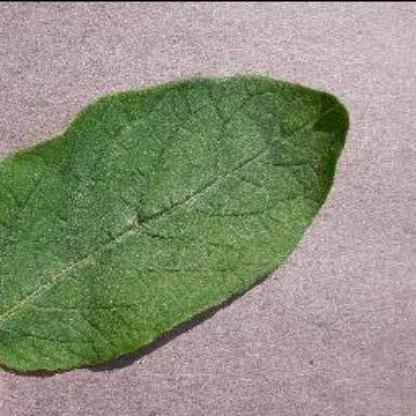Healthy-plant: (0, 50, 380, 388)
